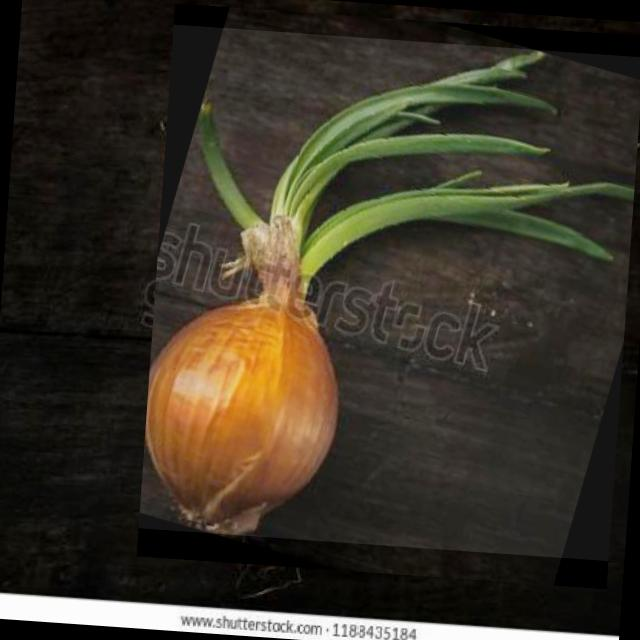sprouting: (144, 50, 634, 535)
